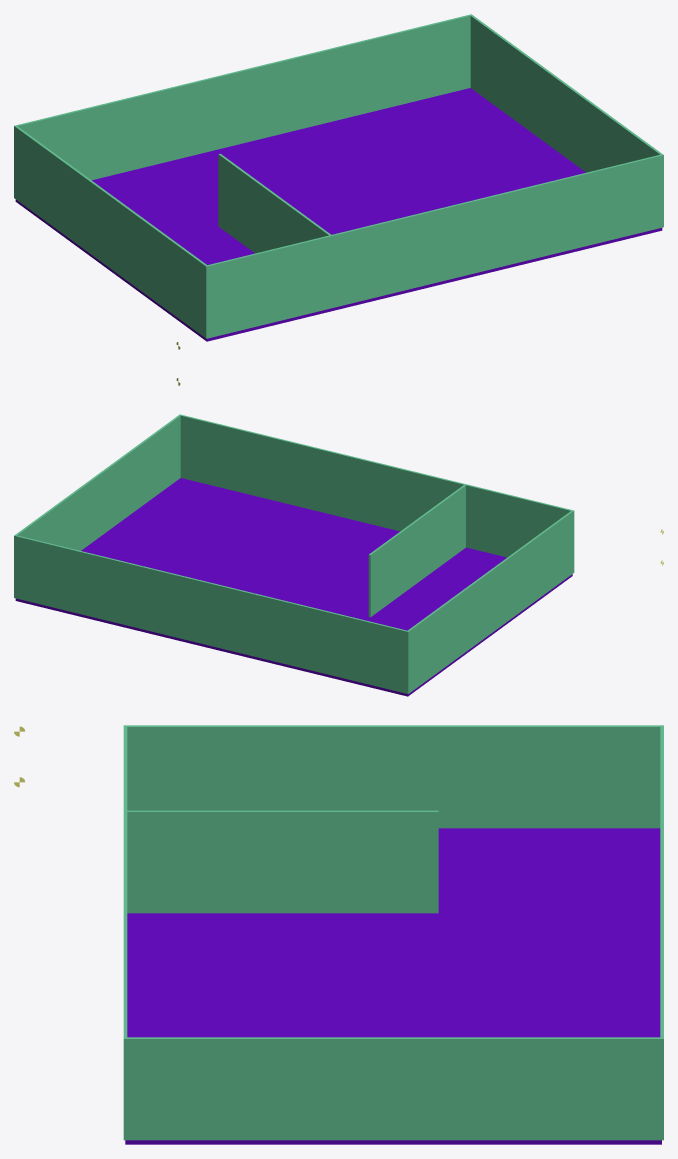
File: room.dae
3 views of the same model, one above another, from view 1: azimuth 30°, elevation 25°; view 2: azimuth 150°, elevation 25°; view 3: azimuth 270°, elevation 25° (orthographic). The views are drawn at different scales.
Visible parts, largest first — view 1: Component_1, Component_3, Component_5, Component_2, Component_4, Component_6; view 2: Component_1, Component_5, Component_3, Component_2, Component_4, Component_6; view 3: Component_1, Component_4, Component_2, Component_6, Component_3, Component_5.
Part boxes in pixels (left/top/right/bottom): Component_1: left=15, top=88, right=662, bottom=341; Component_3: left=208, top=154, right=663, bottom=338; Component_5: left=16, top=15, right=470, bottom=180; Component_2: left=14, top=125, right=208, bottom=338; Component_4: left=469, top=14, right=661, bottom=172; Component_6: left=218, top=153, right=331, bottom=253; Component_1: left=15, top=478, right=572, bottom=696; Component_5: left=16, top=535, right=406, bottom=693; Component_3: left=179, top=414, right=571, bottom=557; Component_2: left=406, top=510, right=574, bottom=693; Component_4: left=14, top=415, right=180, bottom=598; Component_6: left=368, top=485, right=465, bottom=617; Component_1: left=125, top=828, right=661, bottom=1144; Component_4: left=127, top=1037, right=663, bottom=1140; Component_2: left=123, top=725, right=663, bottom=828; Component_6: left=127, top=810, right=438, bottom=913; Component_3: left=123, top=727, right=127, bottom=1140; Component_5: left=660, top=727, right=663, bottom=1037.
Bounding box in the file's own units: 1818 × 1395 × 252.
